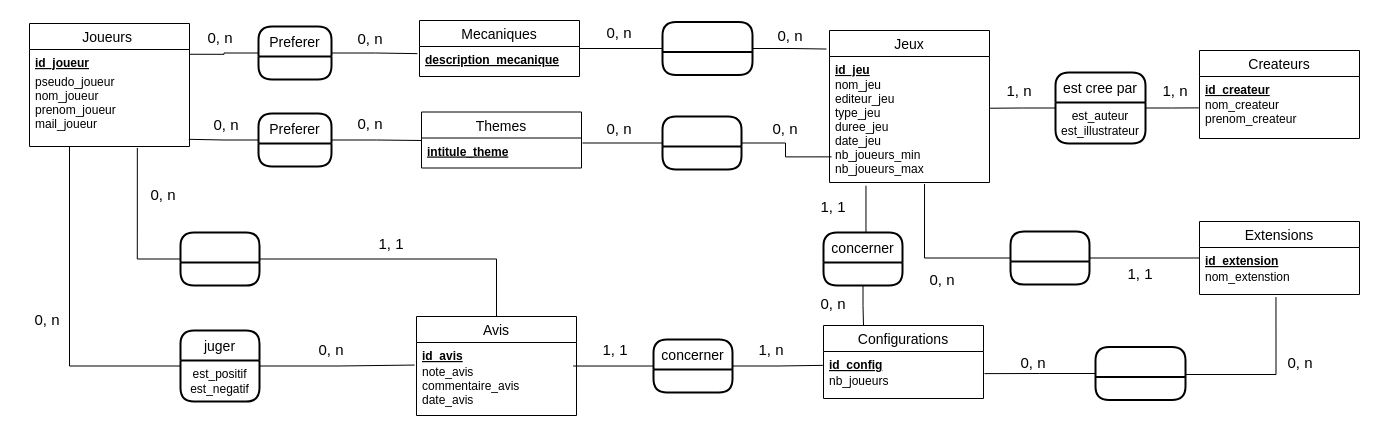
This 1377x435 diagram has some shape labels left out. The centre of each missing label's shape, as x and y in pixels:
"caracteriser" goes at point 707,48.
"contenir" goes at point 1140,373.
"donner" goes at point 219,258.
"posseder" goes at point 1049,257.
"utiliser par" goes at point 701,142.
